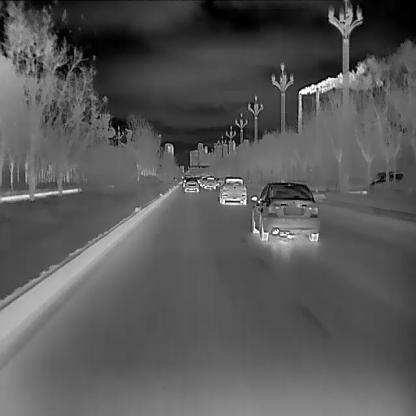car: (249, 180, 318, 240), (218, 176, 246, 205), (185, 176, 199, 192), (204, 177, 217, 189)
